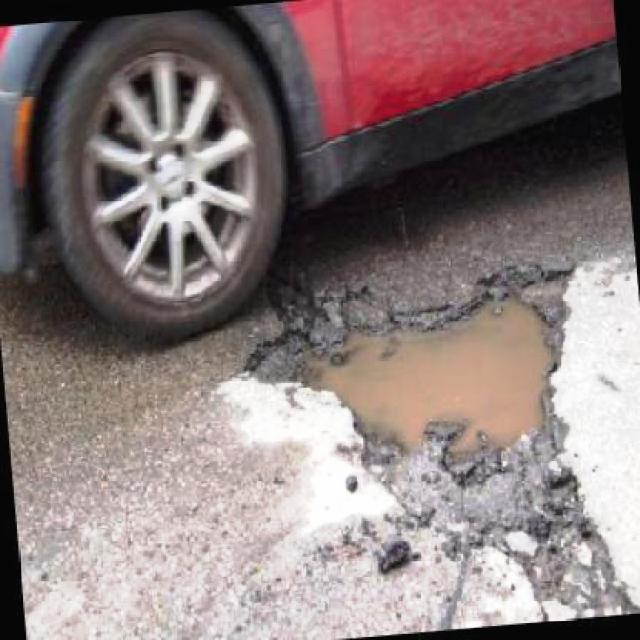pothole: (235, 264, 640, 622)
